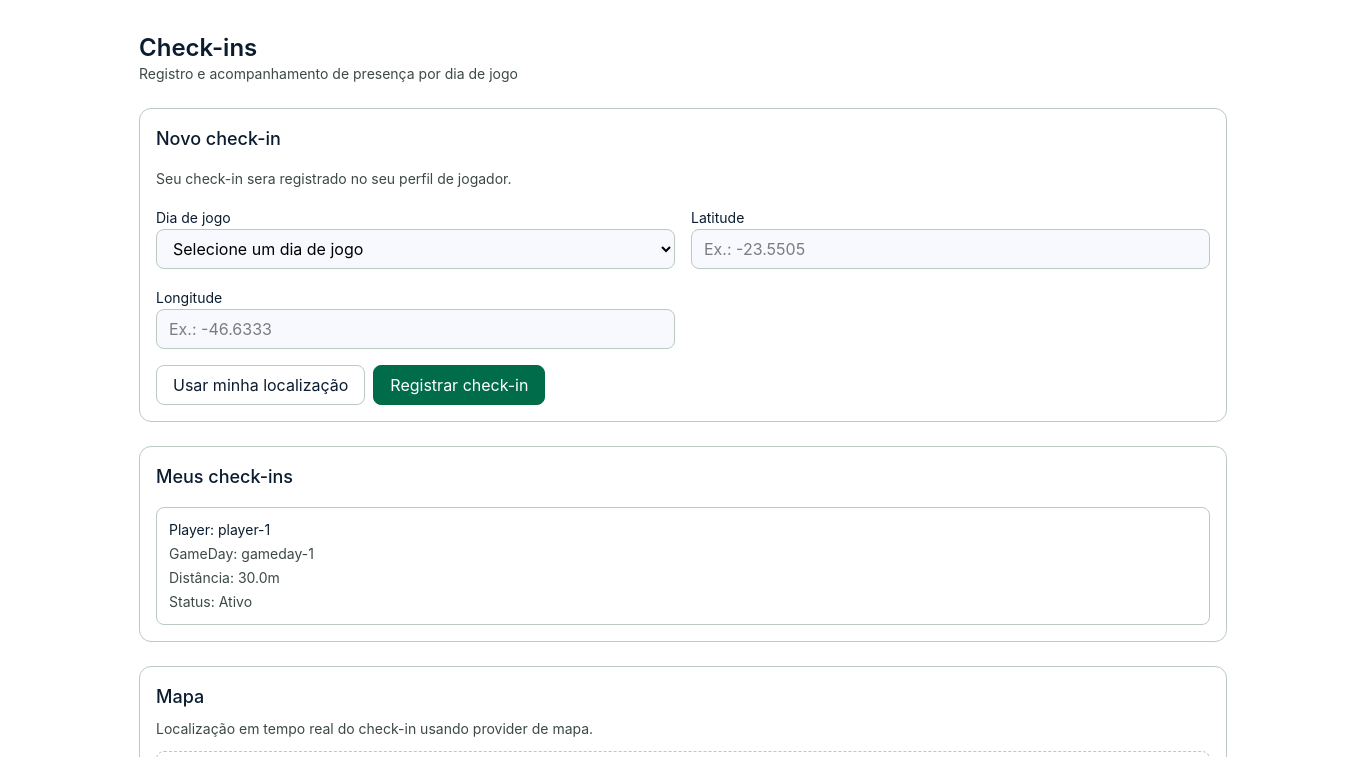
Test: CheckinsPage › deve mostrar erro quando geolocalização não é suportada
The width and height of the screenshot is (1366, 757).
Click the button "Usar minha localização": {"x": 261, "y": 385} left=156, top=365, right=365, bottom=405
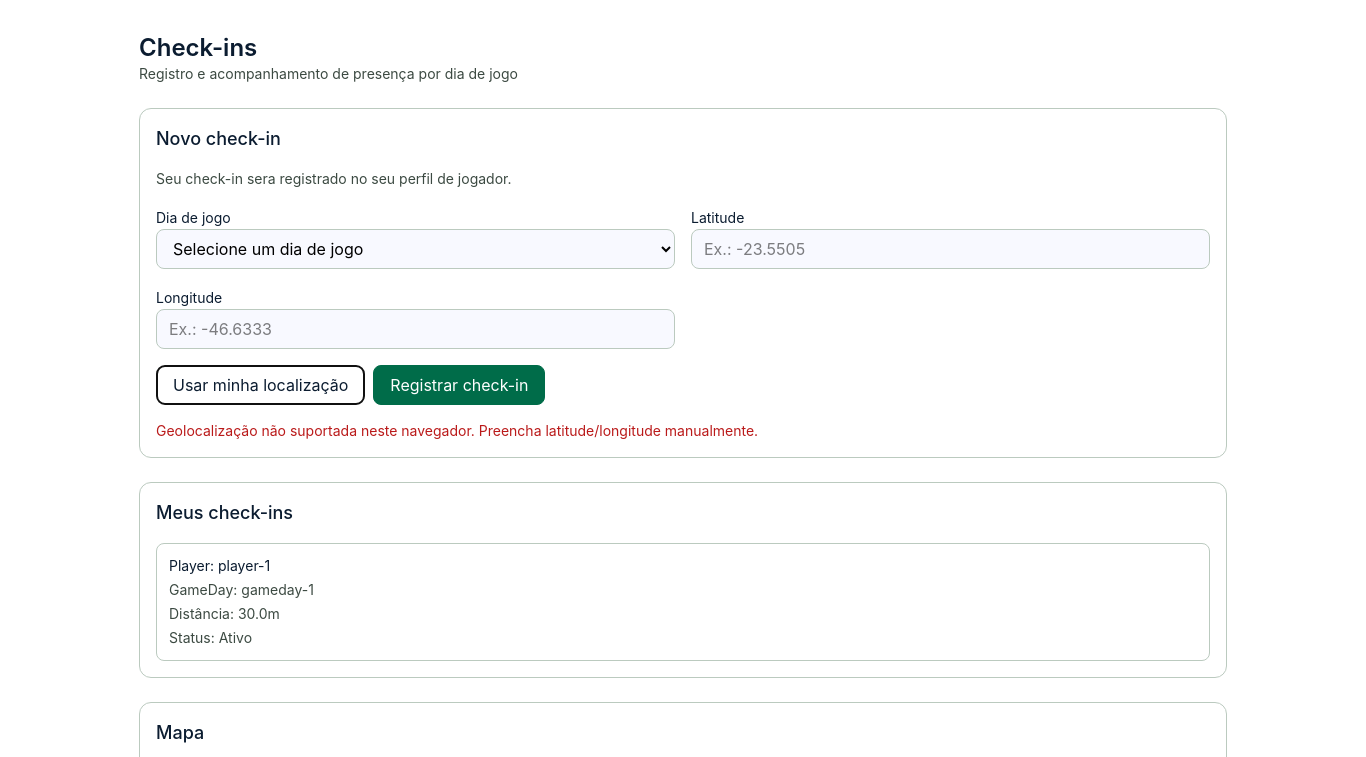
Now the text "Geolocalização não suportada" is shown, box left=156, top=422, right=758, bottom=439
